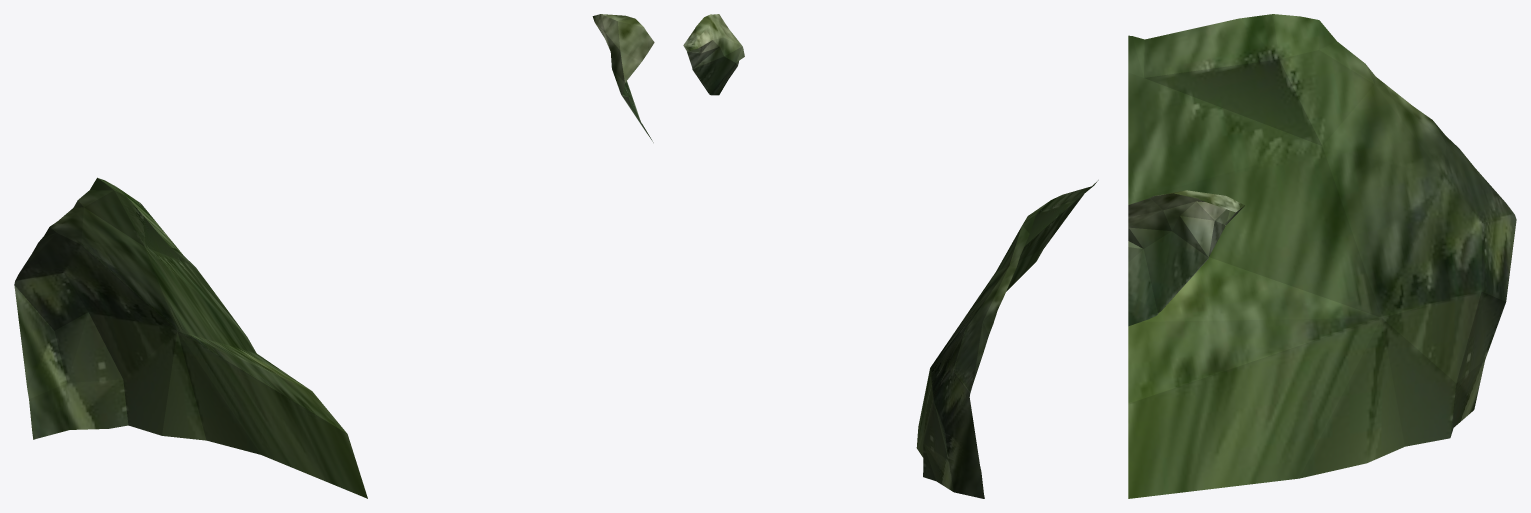
3 views of the same model, side by side, from view 1: azimuth 30°, elevation 25°; view 2: azimuth 150°, elevation 25°; view 3: azimuth 270°, elevation 25° (orthographic). The views are drawn at different scales.
Size of the model in its own units: 2.95 by 2.34 by 1.75.
1 material, 1 textured.
